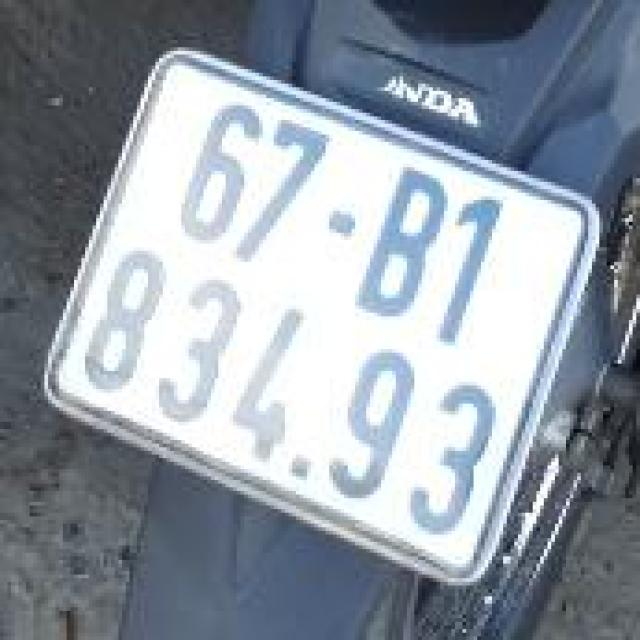1: (406, 182, 511, 356)
3: (395, 372, 513, 553), (145, 267, 255, 435)
4: (215, 293, 329, 473)
6: (168, 92, 274, 256)
7: (219, 112, 340, 282)
8: (68, 235, 180, 407)
9: (311, 333, 430, 518)
B: (340, 156, 465, 335)
